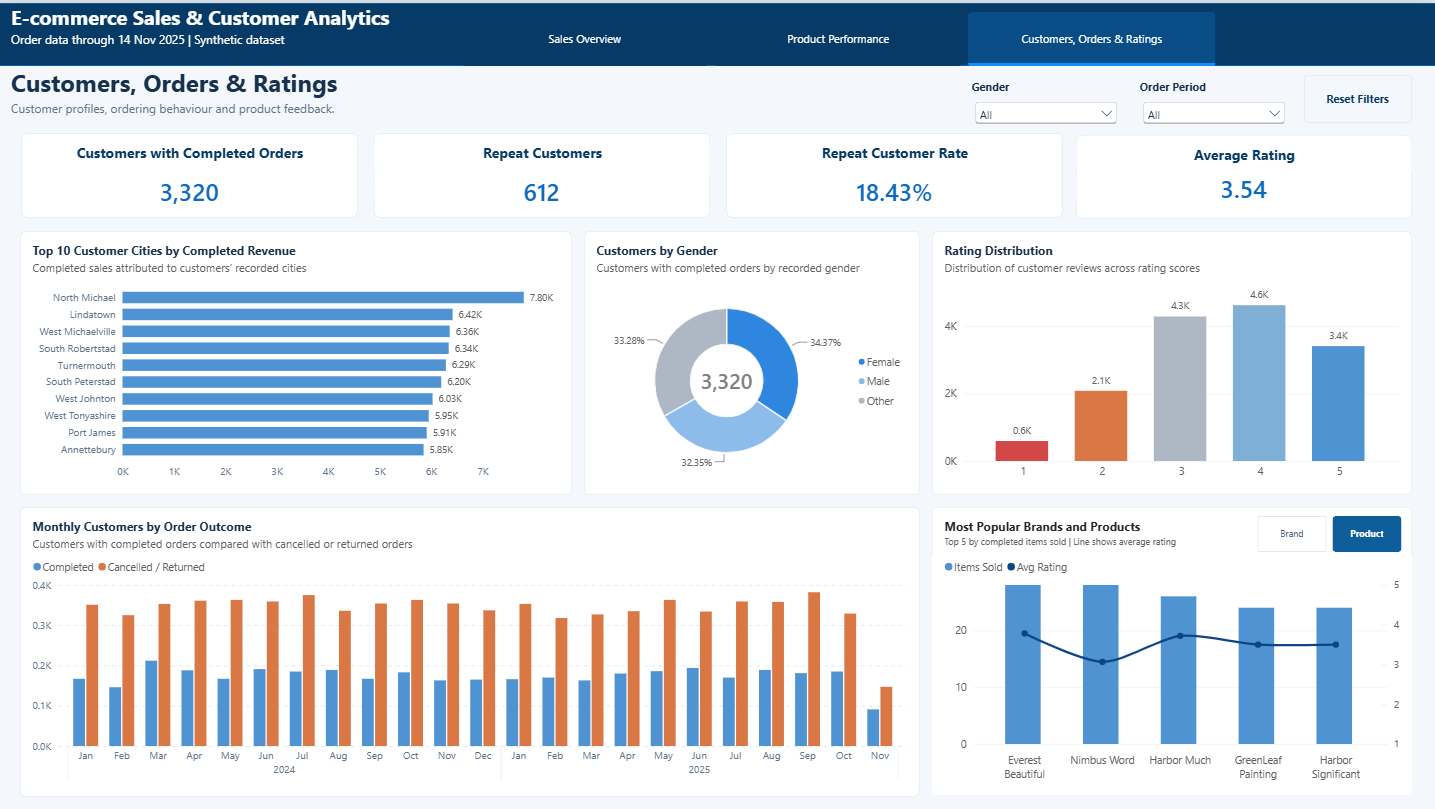

The page's visual inventory and layout, read from the dashboard file:
{"tool":"powerbi","page":{"name":"Customers, Orders & Ratings","canvas":[1920,1080],"ordinal":2},"visuals":[{"type":"shape","title":"Most Popular Brands and Products","box":[1248,672,640,384],"z":500},{"type":"shape","box":[0,0,1920,84],"z":1000},{"type":"textbox","title":"E-commerce Sales & Customer Analytics","box":[0,0,592,64],"z":2000},{"type":"pageNavigator","box":[620,12,1008,72],"z":3000},{"type":"slicer","title":"Order Period","fields":{"Values":["DimDate.Year","DimDate.Quarter"]},"box":[1520,96,208,80],"z":4000},{"type":"actionButton","title":"Reset date","box":[1744,96,144,64],"z":5000},{"type":"textbox","title":"Customers, Orders & Ratings","box":[0,84,624,80],"z":6000},{"type":"clusteredBarChart","title":"Top 10 Customer Cities by Completed Revenue","fields":{"Category":["DimCustomer.city"],"Y":["_Measures.Completed Revenue"]},"box":[32,304,736,352],"z":7000},{"type":"slicer","title":"Gender","fields":{"Values":["DimCustomer.gender"]},"box":[1296,96,208,80],"z":8000},{"type":"clusteredColumnChart","title":"Monthly Customers by Order Outcome","fields":{"Category":["DimDate.Year","DimDate.Month"],"Y":["_Measures.Customers with Completed Orders","_Measures.Customers with Cancelled or Returned Orders"]},"box":[32,672,1200,386],"z":10000},{"type":"cardVisual","title":"Customers with Completed Orders","fields":{"Data":["_Measures.Customers with Completed Orders"]},"box":[33.8,175,448,112],"z":11000},{"type":"cardVisual","title":"Repeat Customers","fields":{"Data":["_Measures.Repeat Customers"]},"box":[503.8,175,448,112],"z":12000},{"type":"cardVisual","title":"Repeat Customer Rate","fields":{"Data":["_Measures.Repeat Customer Rate"]},"box":[973.8,175,448,112],"z":13000},{"type":"cardVisual","title":"Average Rating","fields":{"Data":["_Measures.Average Rating"]},"box":[1440,176,448,112],"z":14000},{"type":"donutChart","title":"Customers by Gender","fields":{"Category":["DimCustomer.gender"],"Y":["_Measures.Customers with Completed Orders"]},"box":[784,304,448,352],"z":15000},{"type":"clusteredColumnChart","title":"Rating Distribution","fields":{"Category":["FactReviews.rating"],"Y":["_Measures.Review Count"]},"box":[1248,304,640,352],"z":16000},{"type":"textbox","box":[96,96,272,64],"z":17000},{"type":"lineStackedColumnComboChart","title":"Product Chart","fields":{"Category":["DimProduct.product_name"],"Y":["_Measures.Completed Items Sold"],"Y2":["_Measures.Average Rating"]},"box":[1248,736,640,320],"z":20001},{"type":"bookmarkNavigator","box":[1682,684,192,48],"z":20003}]}

Visuals, with their boxes in screenshot pixels (x1, y1, x2, y2), scaled from the page's 1920x1080 canvas onto the 1435x809 screenshot:
"Most Popular Brands and Products" shape: 933, 503, 1411, 791
shape: 0, 0, 1434, 63
"E-commerce Sales & Customer Analytics" textbox: 0, 0, 442, 48
pageNavigator: 463, 9, 1217, 63
"Order Period" slicer: 1136, 72, 1292, 132
"Reset date" actionButton: 1303, 72, 1411, 120
"Customers, Orders & Ratings" textbox: 0, 63, 466, 123
"Top 10 Customer Cities by Completed Revenue" clusteredBarChart: 24, 228, 574, 491
"Gender" slicer: 969, 72, 1124, 132
"Monthly Customers by Order Outcome" clusteredColumnChart: 24, 503, 921, 793
"Customers with Completed Orders" cardVisual: 25, 131, 360, 215
"Repeat Customers" cardVisual: 377, 131, 711, 215
"Repeat Customer Rate" cardVisual: 728, 131, 1063, 215
"Average Rating" cardVisual: 1076, 132, 1411, 216
"Customers by Gender" donutChart: 586, 228, 921, 491
"Rating Distribution" clusteredColumnChart: 933, 228, 1411, 491
textbox: 72, 72, 275, 120
"Product Chart" lineStackedColumnComboChart: 933, 551, 1411, 791
bookmarkNavigator: 1257, 512, 1401, 548
